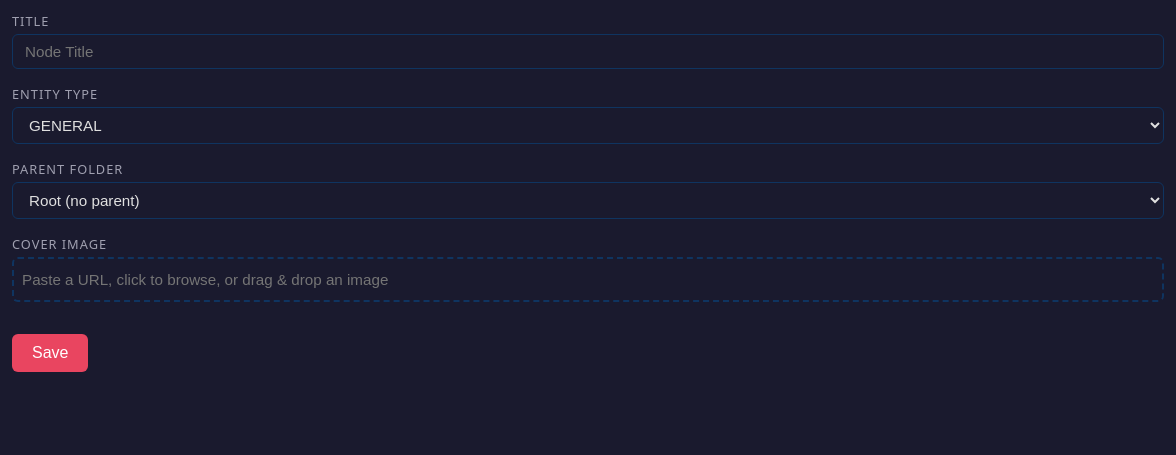
Test: GmWikiEditor.vue — Parent Selector UI › shows path preview when title has content
The image size is (1176, 455).
# Preview appears after typing
Step 1. Type "Dark Forest" into the field with test id "wiki-title" → point(588, 52), box [12,34,1164,69]
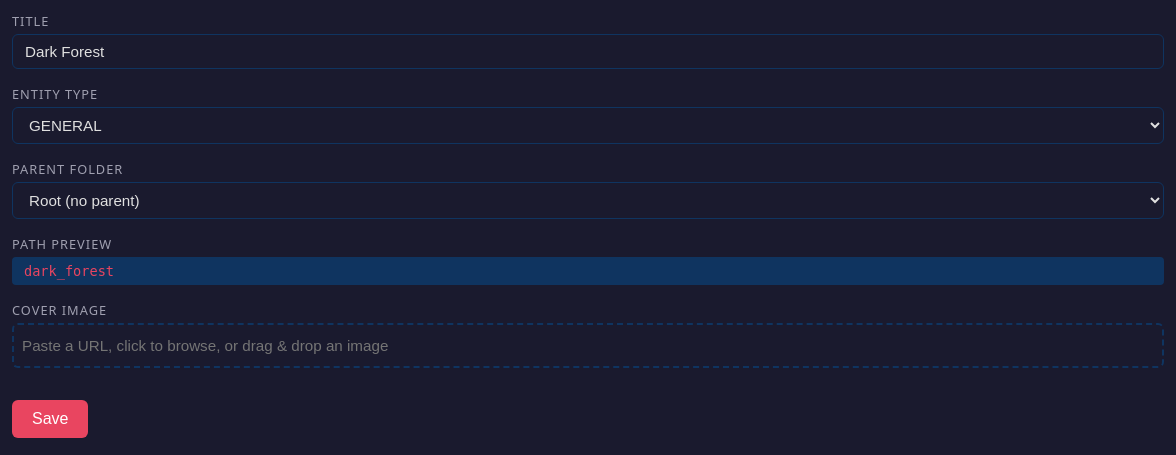
expect the text "dark_forest" is shown: met, box [12,257,1164,285]
